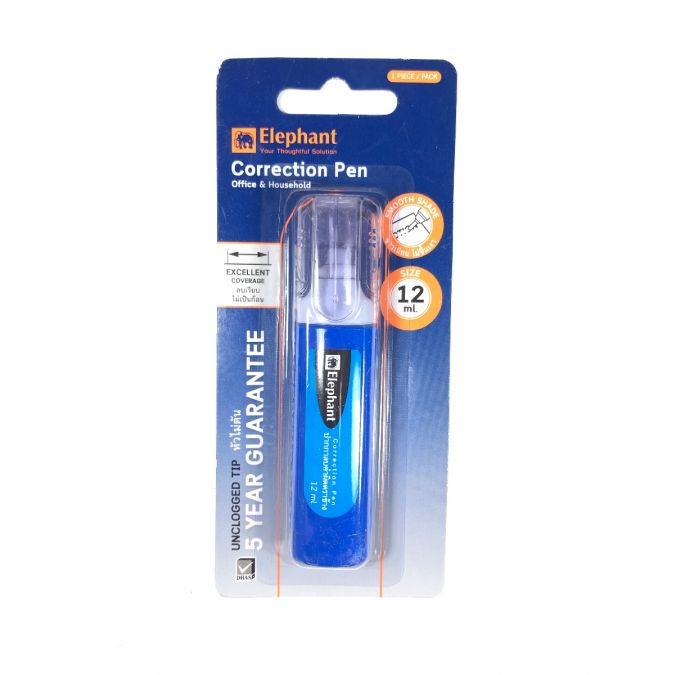Correction_fluid: (287, 187, 379, 572)
